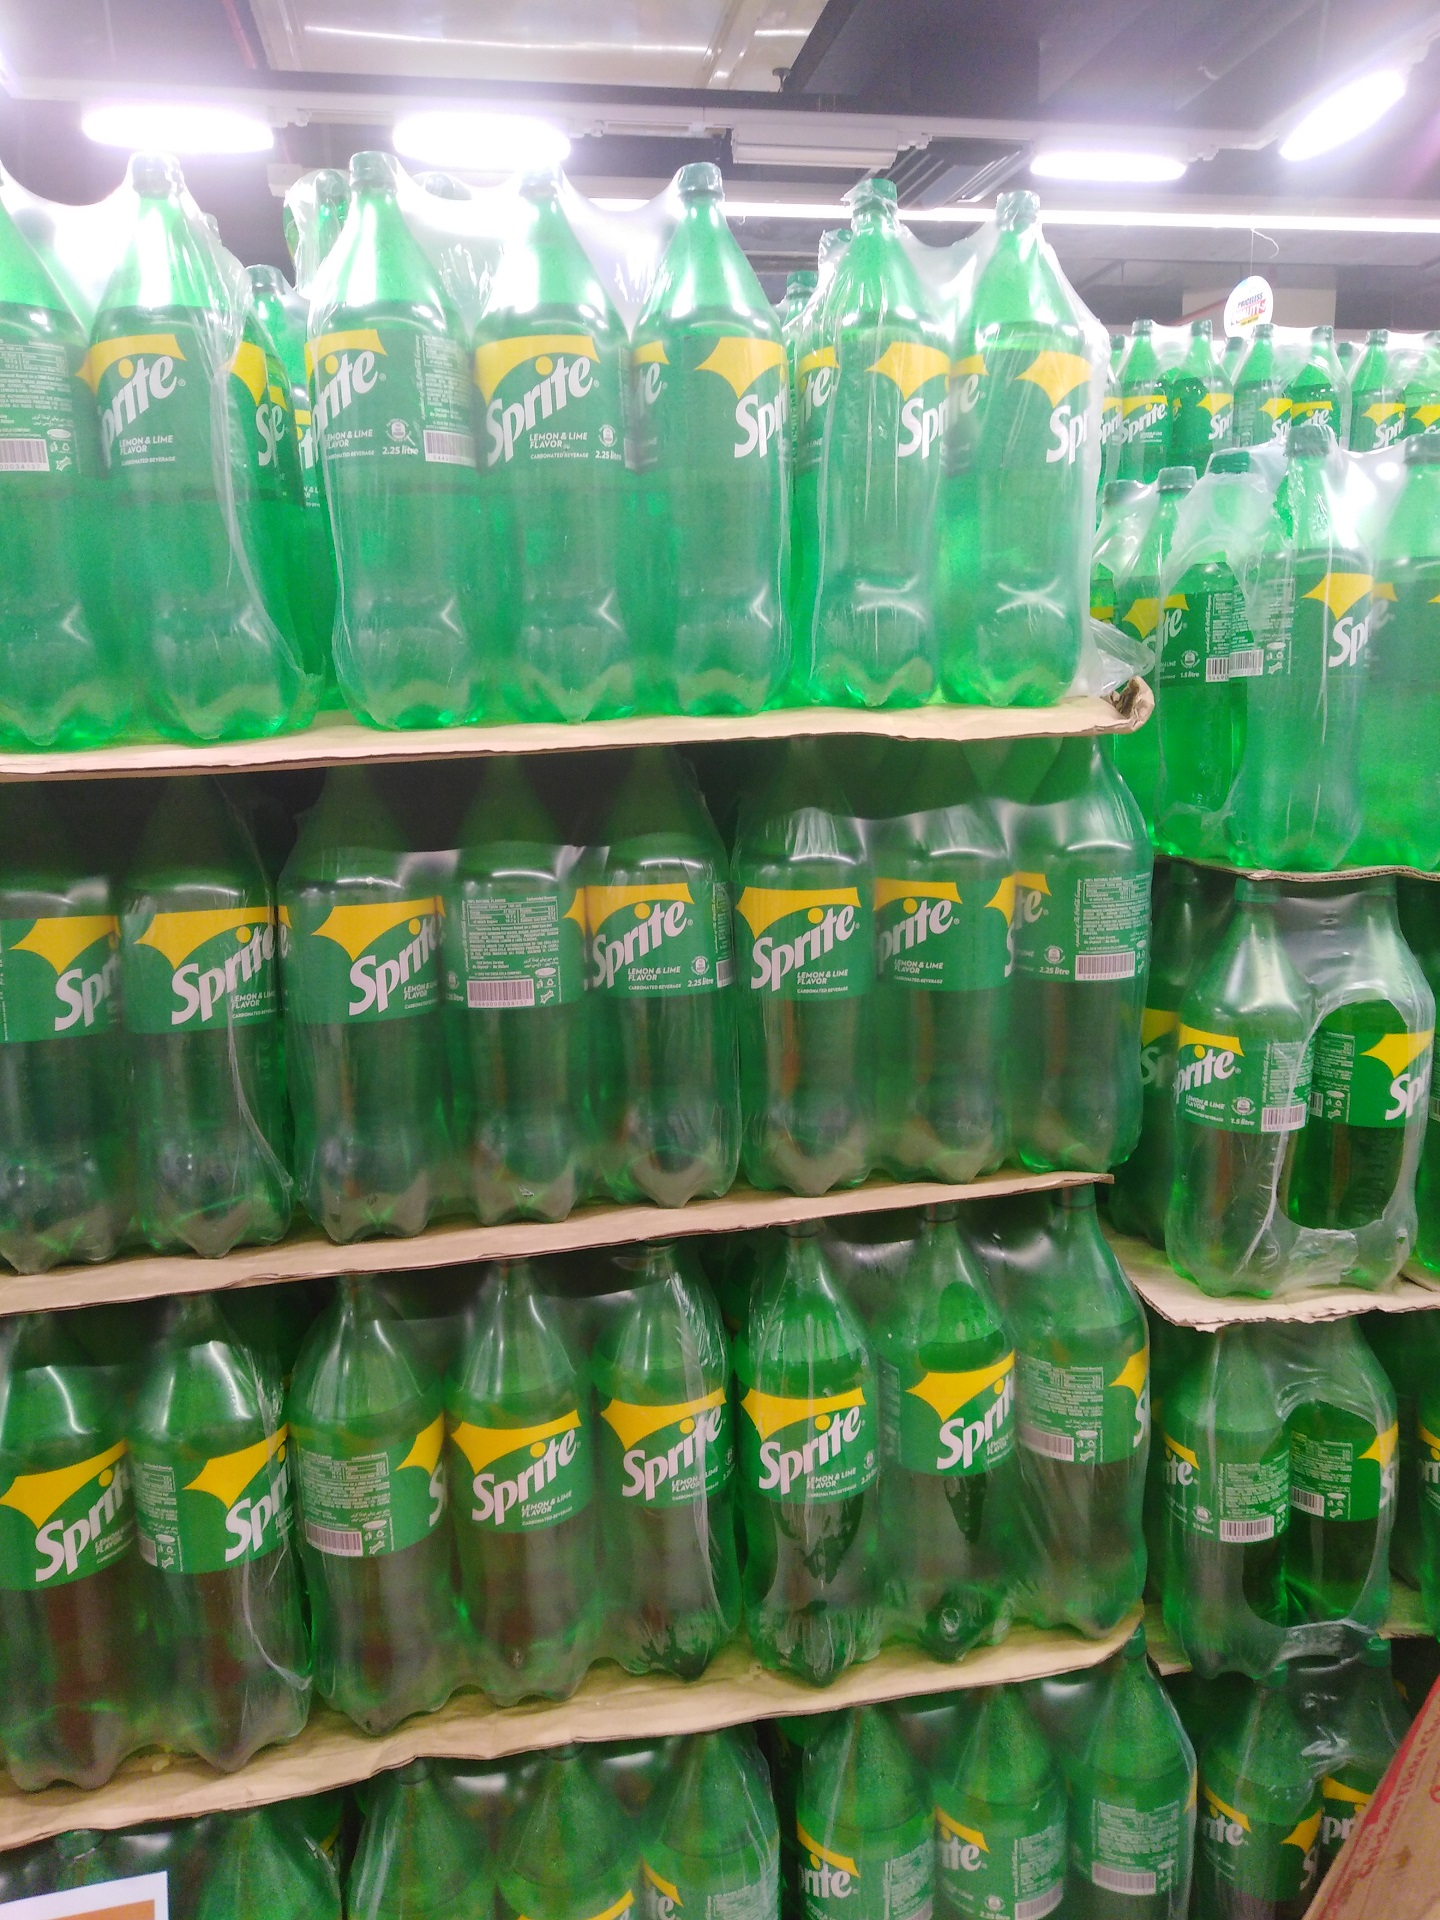sprite: (486, 360, 594, 469), (168, 928, 275, 1028), (467, 1432, 576, 1528), (753, 1407, 862, 1498), (620, 1409, 725, 1503), (590, 900, 693, 993), (749, 906, 856, 992), (351, 919, 440, 1014), (1118, 401, 1169, 443)
